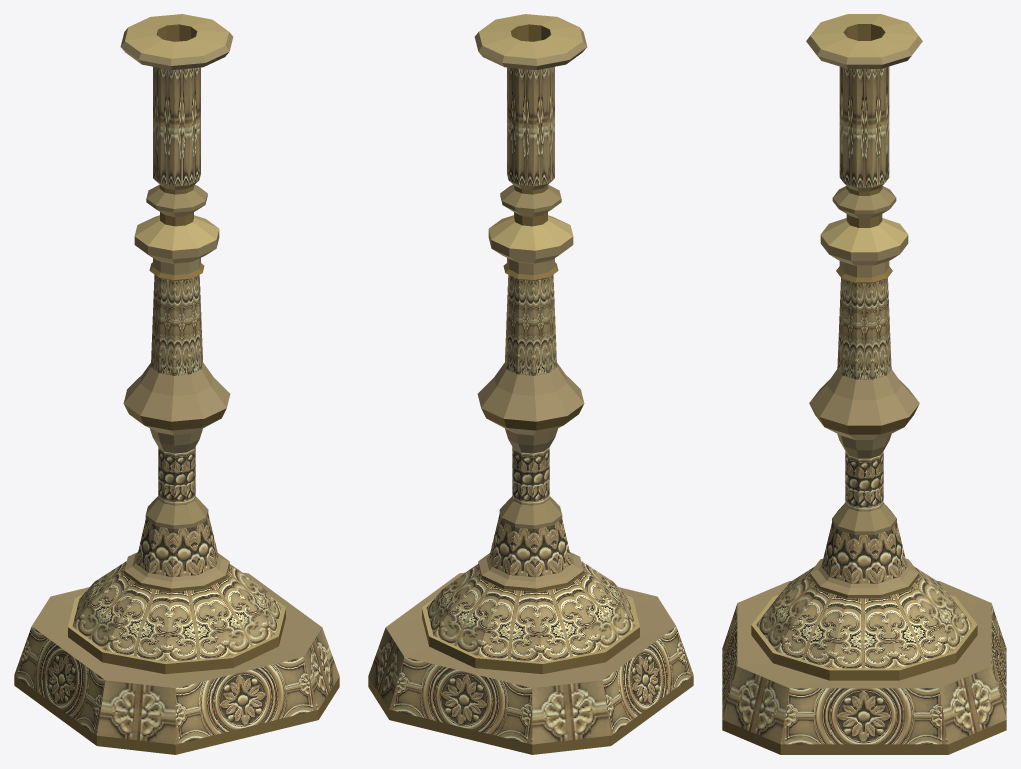
Rendered from WorldItem_Candlestick.fbx.
3 renders of one model, left to right at view 1: azimuth 30°, elevation 25°; view 2: azimuth 150°, elevation 25°; view 3: azimuth 270°, elevation 25°, orthographic.
Visible parts, largest first — view 1: ZomboidCandlestick; view 2: ZomboidCandlestick; view 3: ZomboidCandlestick.
Boxes of the visible parts, <box> form: ZomboidCandlestick: <box>14,14,339,754</box>; ZomboidCandlestick: <box>368,14,693,754</box>; ZomboidCandlestick: <box>722,14,1006,754</box>.
Size of the model in its own units: 0.1433 by 0.3682 by 0.1433.
